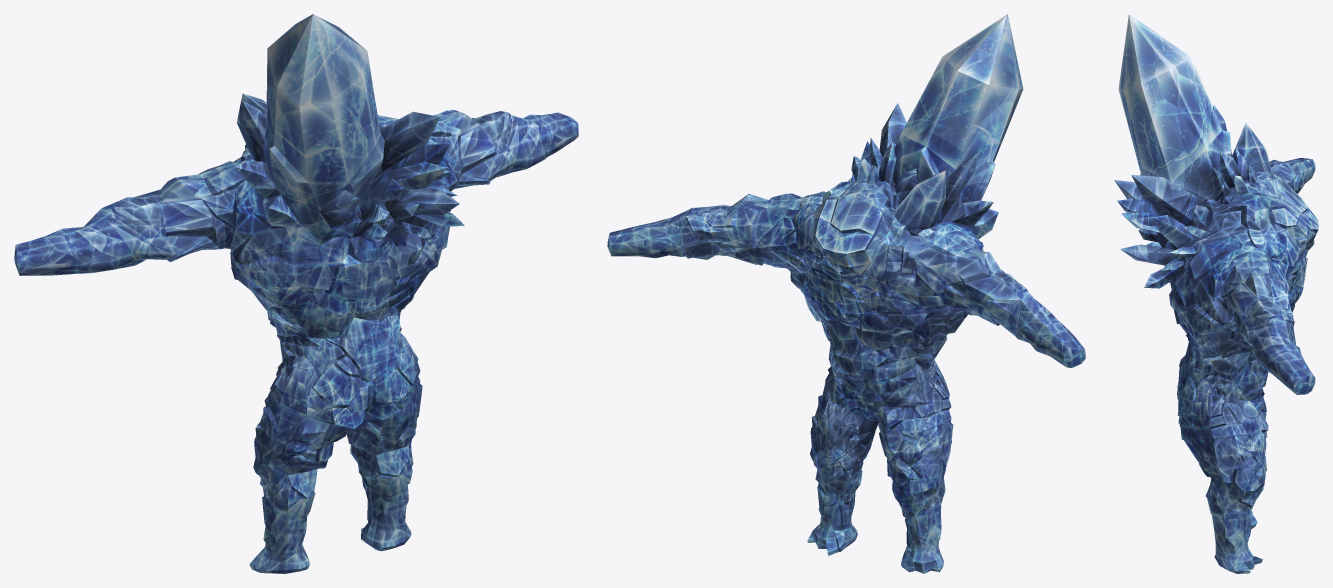
The model's file is cgolem.obj.
3 views of the same model, side by side, from view 1: azimuth 30°, elevation 25°; view 2: azimuth 150°, elevation 25°; view 3: azimuth 270°, elevation 25° (orthographic). The views are drawn at different scales.
Visible parts, largest first — view 1: mesh0; view 2: mesh0; view 3: mesh0.
Boxes of the visible parts, left/top/right/bottom form: mesh0: left=14, top=14, right=578, bottom=573; mesh0: left=607, top=14, right=1085, bottom=573; mesh0: left=1114, top=14, right=1318, bottom=573.
Size of the model in its own units: 3.48 by 3.63 by 1.35.
